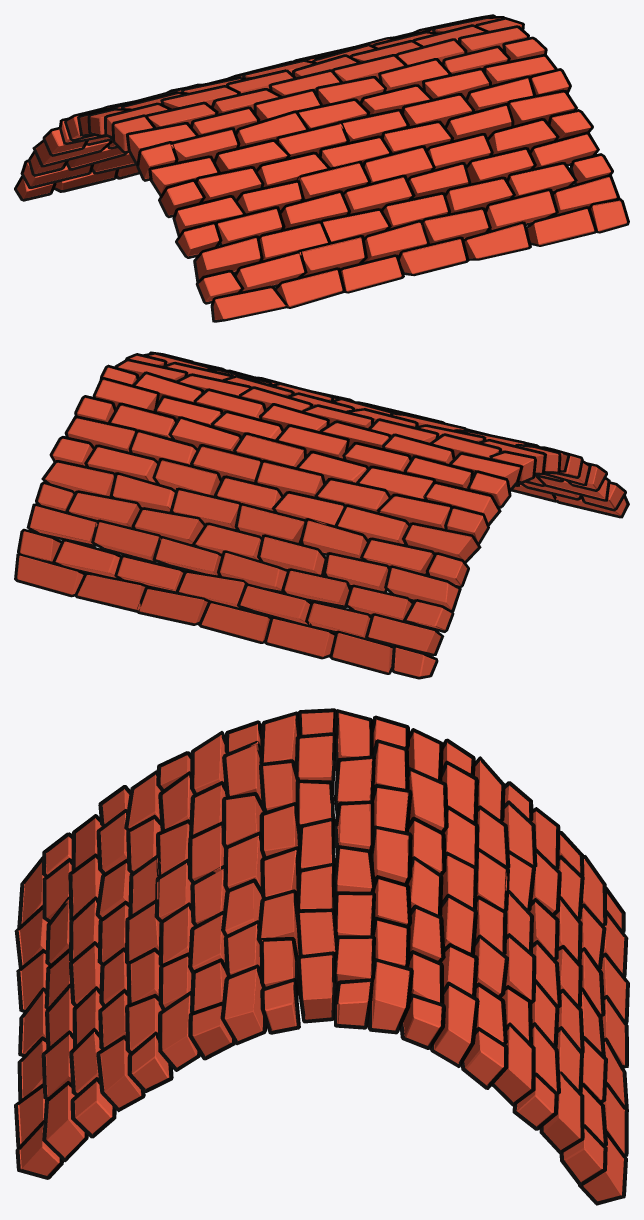
The model's file is techo arqueado.fbx.
3 renders of one model, top to bottom at view 1: azimuth 30°, elevation 25°; view 2: azimuth 150°, elevation 25°; view 3: azimuth 270°, elevation 25°, orthographic. The views are drawn at different scales.
Parts seen in each view (by area): view 1: pared de ladrillos.026; view 2: pared de ladrillos.026; view 3: pared de ladrillos.026.
Part boxes in pixels (bbox=[...]): pared de ladrillos.026: bbox=[14, 14, 629, 322]; pared de ladrillos.026: bbox=[14, 351, 629, 679]; pared de ladrillos.026: bbox=[14, 708, 629, 1205].
Size of the model in its own units: 260 by 88.63 by 229.
